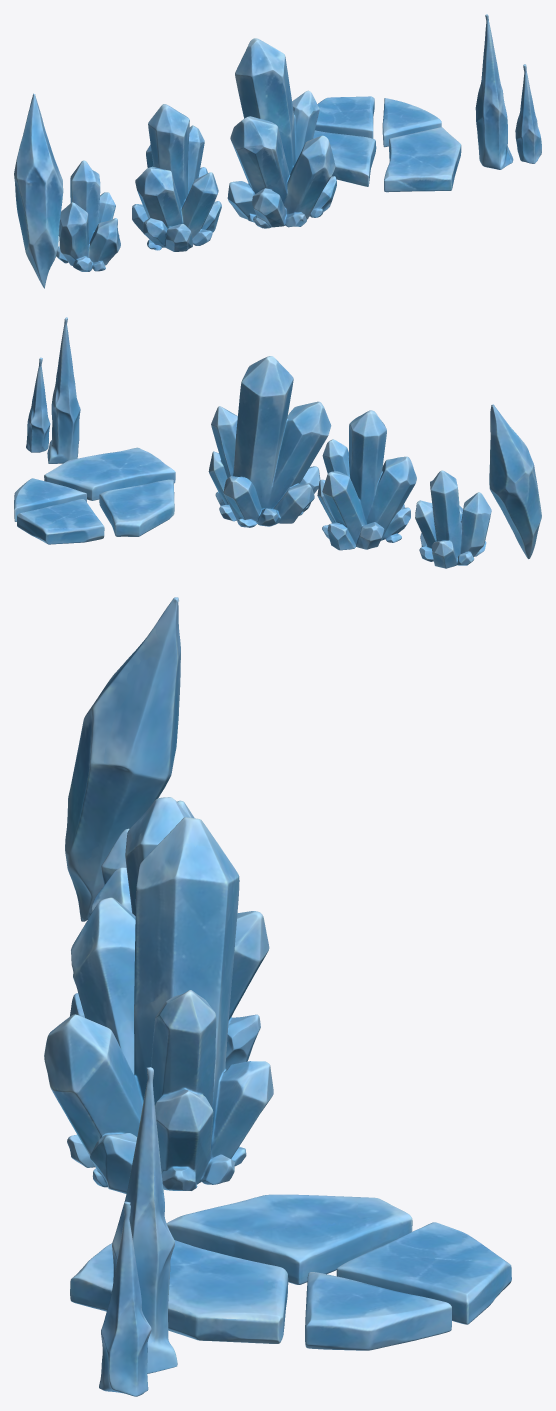
Rendered from elem_hielo.glb.
3 renders of one model, top to bottom at view 1: azimuth 30°, elevation 25°; view 2: azimuth 150°, elevation 25°; view 3: azimuth 270°, elevation 25°, orthographic. The views are drawn at different scales.
Parts seen in each view (by area): view 1: tripo_node_2a966d47-d47e-4094-a541-5ed85040c251; view 2: tripo_node_2a966d47-d47e-4094-a541-5ed85040c251; view 3: tripo_node_2a966d47-d47e-4094-a541-5ed85040c251.
Part boxes in pixels (x1,y1,x2,y2): tripo_node_2a966d47-d47e-4094-a541-5ed85040c251: (14,14,541,288); tripo_node_2a966d47-d47e-4094-a541-5ed85040c251: (14,317,541,568); tripo_node_2a966d47-d47e-4094-a541-5ed85040c251: (44,597,511,1396).
Size of the model in its own units: 0.9791 by 0.3116 by 0.3924.
1 material, 1 textured.
